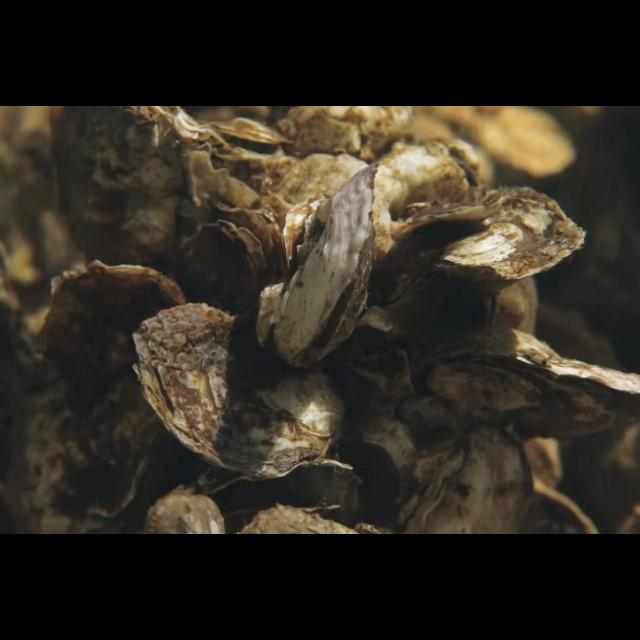Oyster-Closed: (29, 258, 187, 534), (130, 302, 352, 482), (58, 106, 218, 294), (253, 162, 381, 370), (378, 188, 588, 312), (390, 424, 538, 534), (180, 218, 266, 314)
Oyster-Open: (409, 329, 640, 446), (199, 458, 355, 518), (198, 116, 294, 166)
